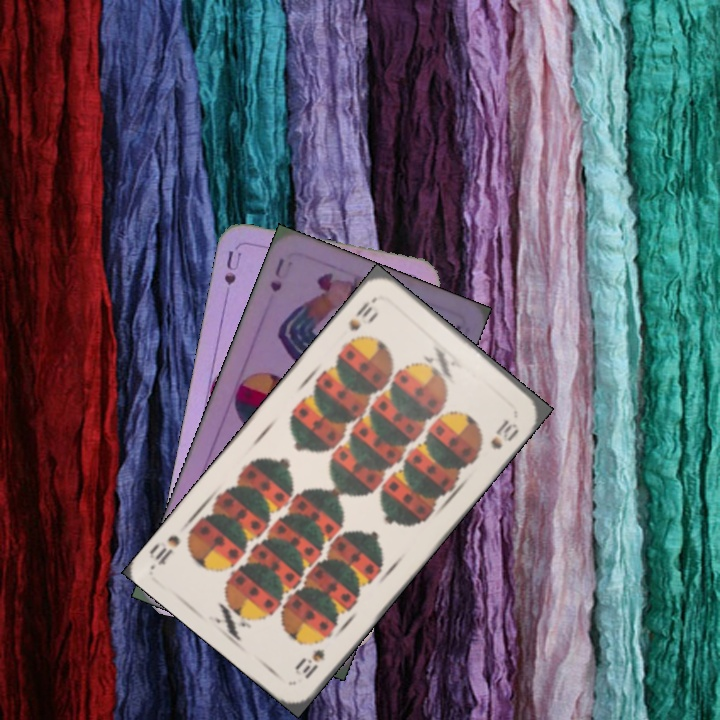S10: (293, 644, 328, 682), (344, 297, 376, 334)
SU: (220, 246, 245, 305), (266, 254, 296, 295)
